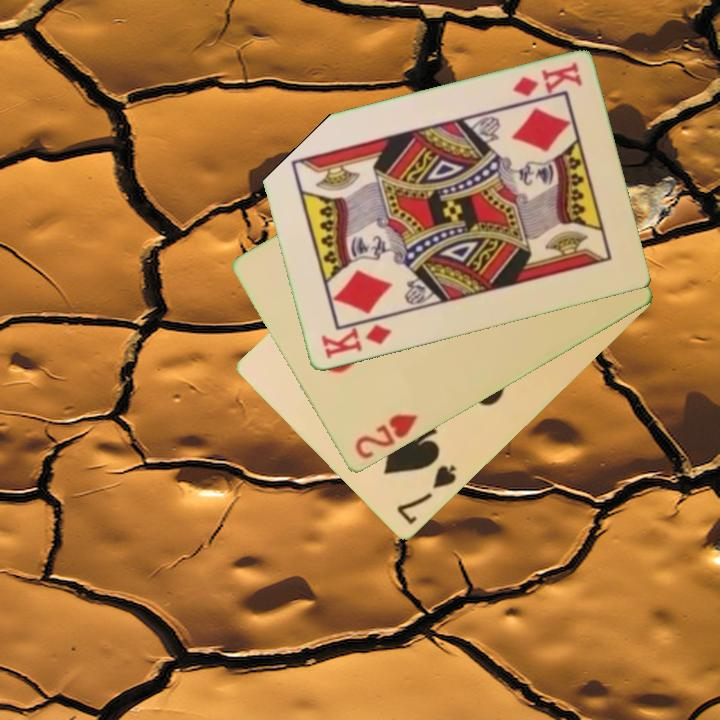2h: (351, 411, 421, 463)
7s: (393, 462, 459, 528)
Kd: (317, 321, 395, 362), (508, 59, 585, 100)
